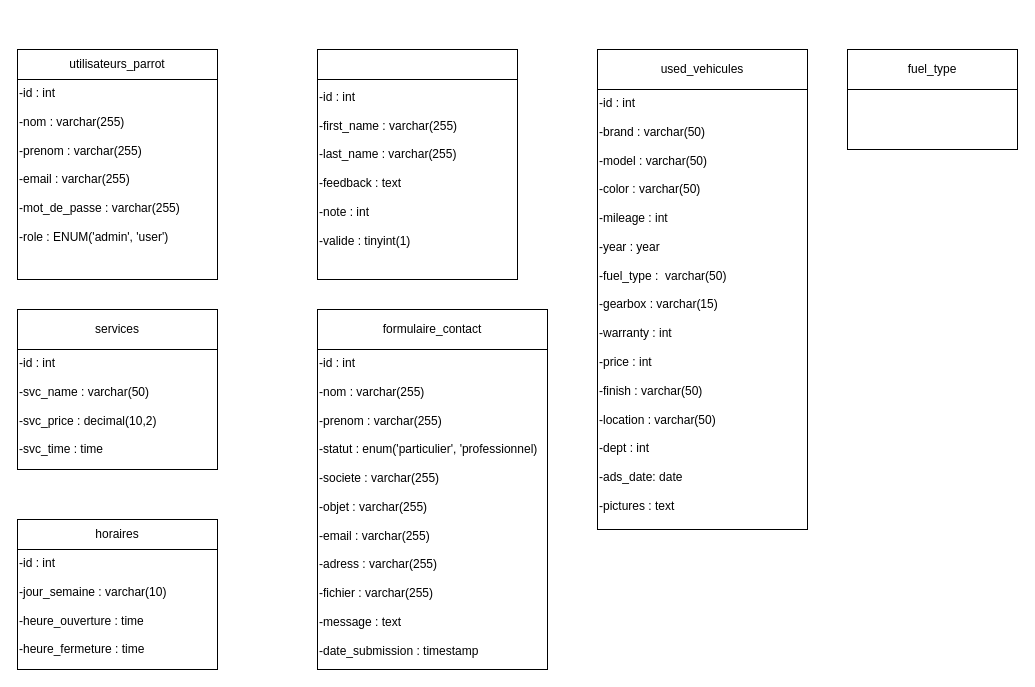
Some shapes in this 1035 by 687 pixel diagram are drawn without their labels. Each missing label, with the centre of its shape:
- id : int -name : varchar(50): (x=932, y=119)
user_feedback: (x=417, y=64)
